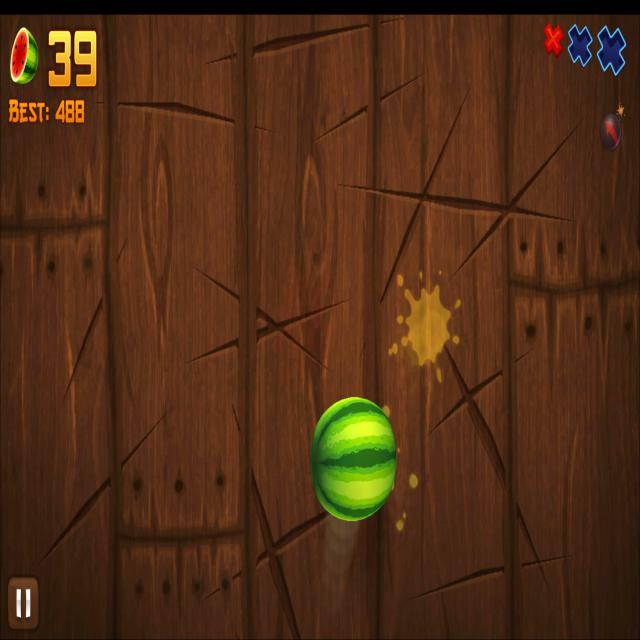fruit: (309, 394, 397, 523)
